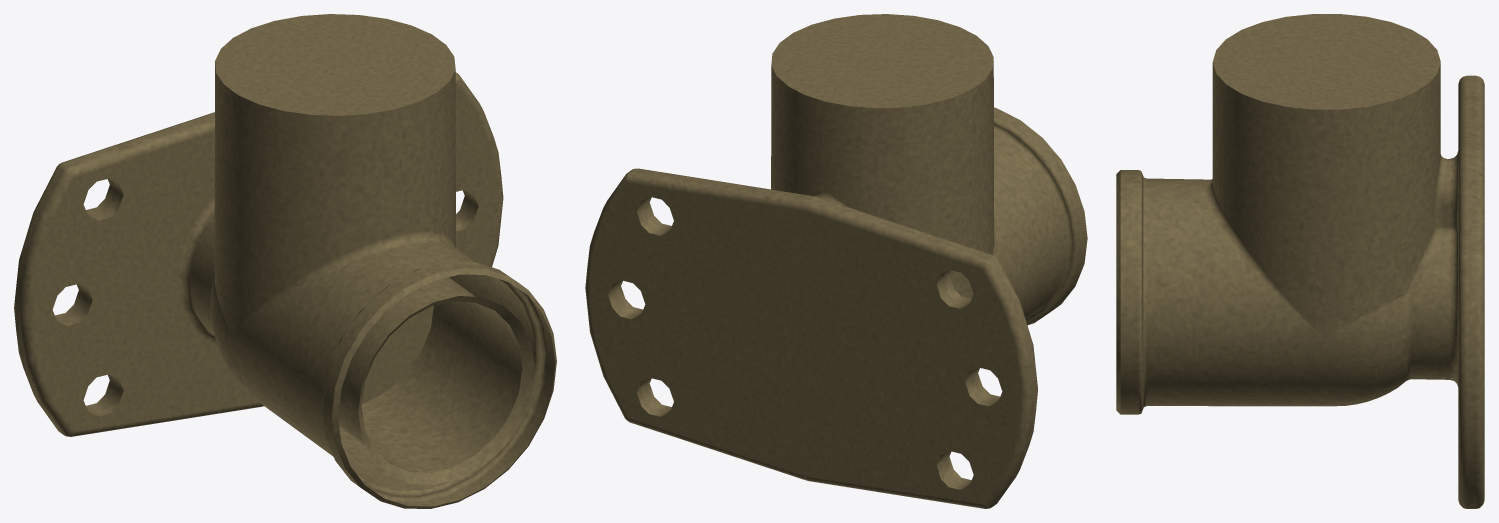
3 renders of one model, left to right at view 1: azimuth 30°, elevation 25°; view 2: azimuth 150°, elevation 25°; view 3: azimuth 270°, elevation 25°, orthographic. The views are drawn at different scales.
Parts seen in each view (by area): view 1: EdgeFillet.12; view 2: EdgeFillet.12; view 3: EdgeFillet.12.
Boxes of the visible parts, box(x1,y1,x2,y2) form: EdgeFillet.12: box(14, 14, 556, 508); EdgeFillet.12: box(585, 14, 1087, 508); EdgeFillet.12: box(1116, 14, 1484, 508).
Bounding box in the file's own units: 0.0598 × 0.047 × 0.042.
Materials: 1 (1 with a texture image).
